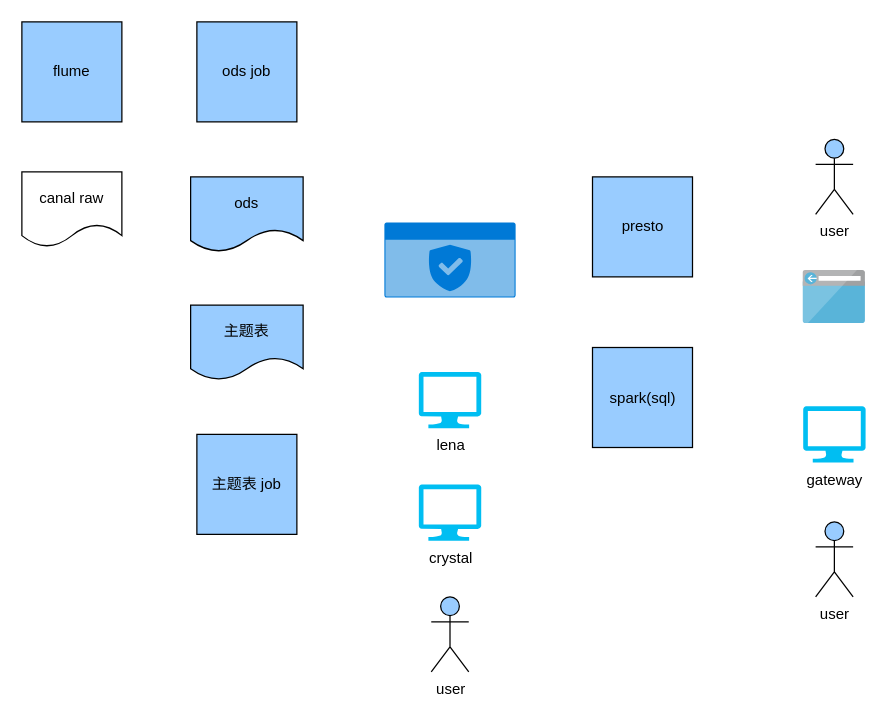
Some shapes in this 888 by 720 pixel diagram are drawn without their labels. Each missing label, with the box of its shape:
sentry: (384, 222, 515, 297)
zeppelin: (802, 270, 865, 323)
